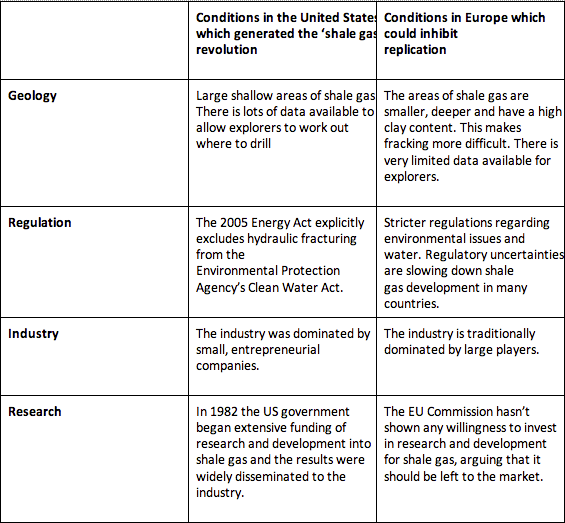fracking table: (1, 1, 565, 520)
